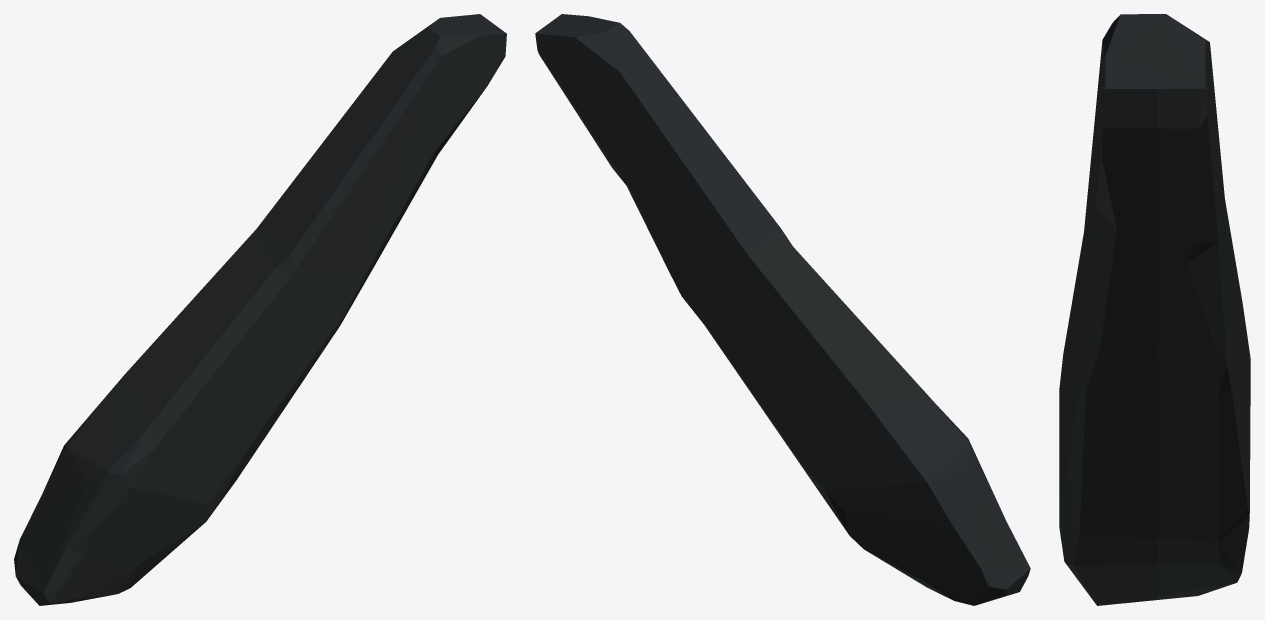
The model's file is Portal_03_Fragment_C.FBX.
3 renders of one model, left to right at view 1: azimuth 30°, elevation 25°; view 2: azimuth 150°, elevation 25°; view 3: azimuth 270°, elevation 25°, orthographic. The views are drawn at different scales.
Visible parts, largest first — view 1: Portal_03_Fragment_C; view 2: Portal_03_Fragment_C; view 3: Portal_03_Fragment_C.
Part boxes in pixels (x1,y1,x2,y2): Portal_03_Fragment_C: (14, 14, 506, 605); Portal_03_Fragment_C: (535, 14, 1030, 605); Portal_03_Fragment_C: (1059, 14, 1250, 605).
Bounding box in the file's own units: 2.02 × 1.95 × 0.3817.
